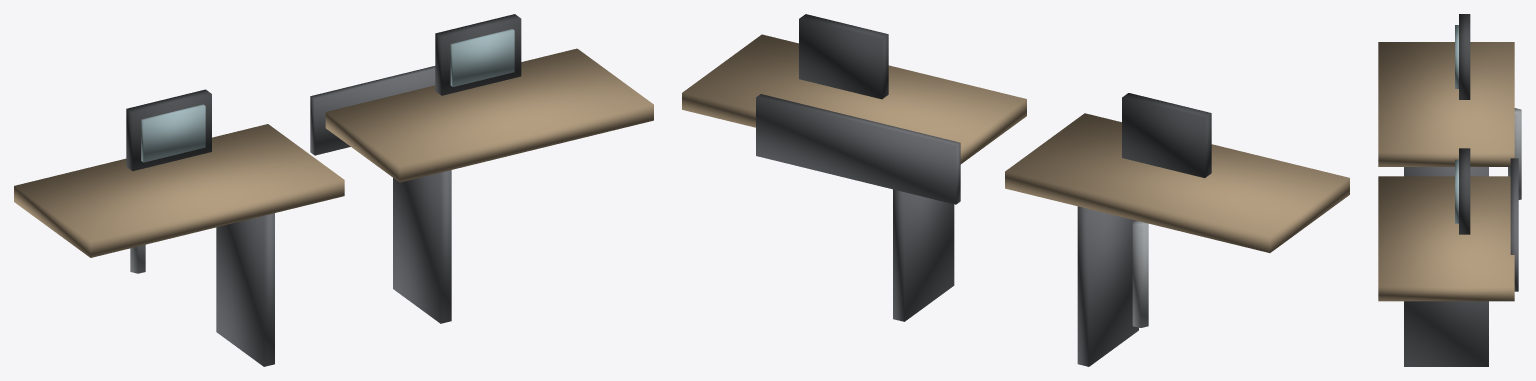
The model's file is newsroom_desk_cluster__service.glb.
The picture shows the model from 3 angles, left to right: view 1: azimuth 30°, elevation 25°; view 2: azimuth 150°, elevation 25°; view 3: azimuth 270°, elevation 25°; orthographic projection. The views are drawn at different scales.
Parts seen in each view (by area): view 1: world; view 2: world; view 3: world.
Boxes of the visible parts, x1,y1,x2,y2 form: world: (14,14,653,366); world: (682,14,1349,366); world: (1378,14,1521,366).
Size of the model in its own units: 2.55 by 1.11 by 0.6303.
